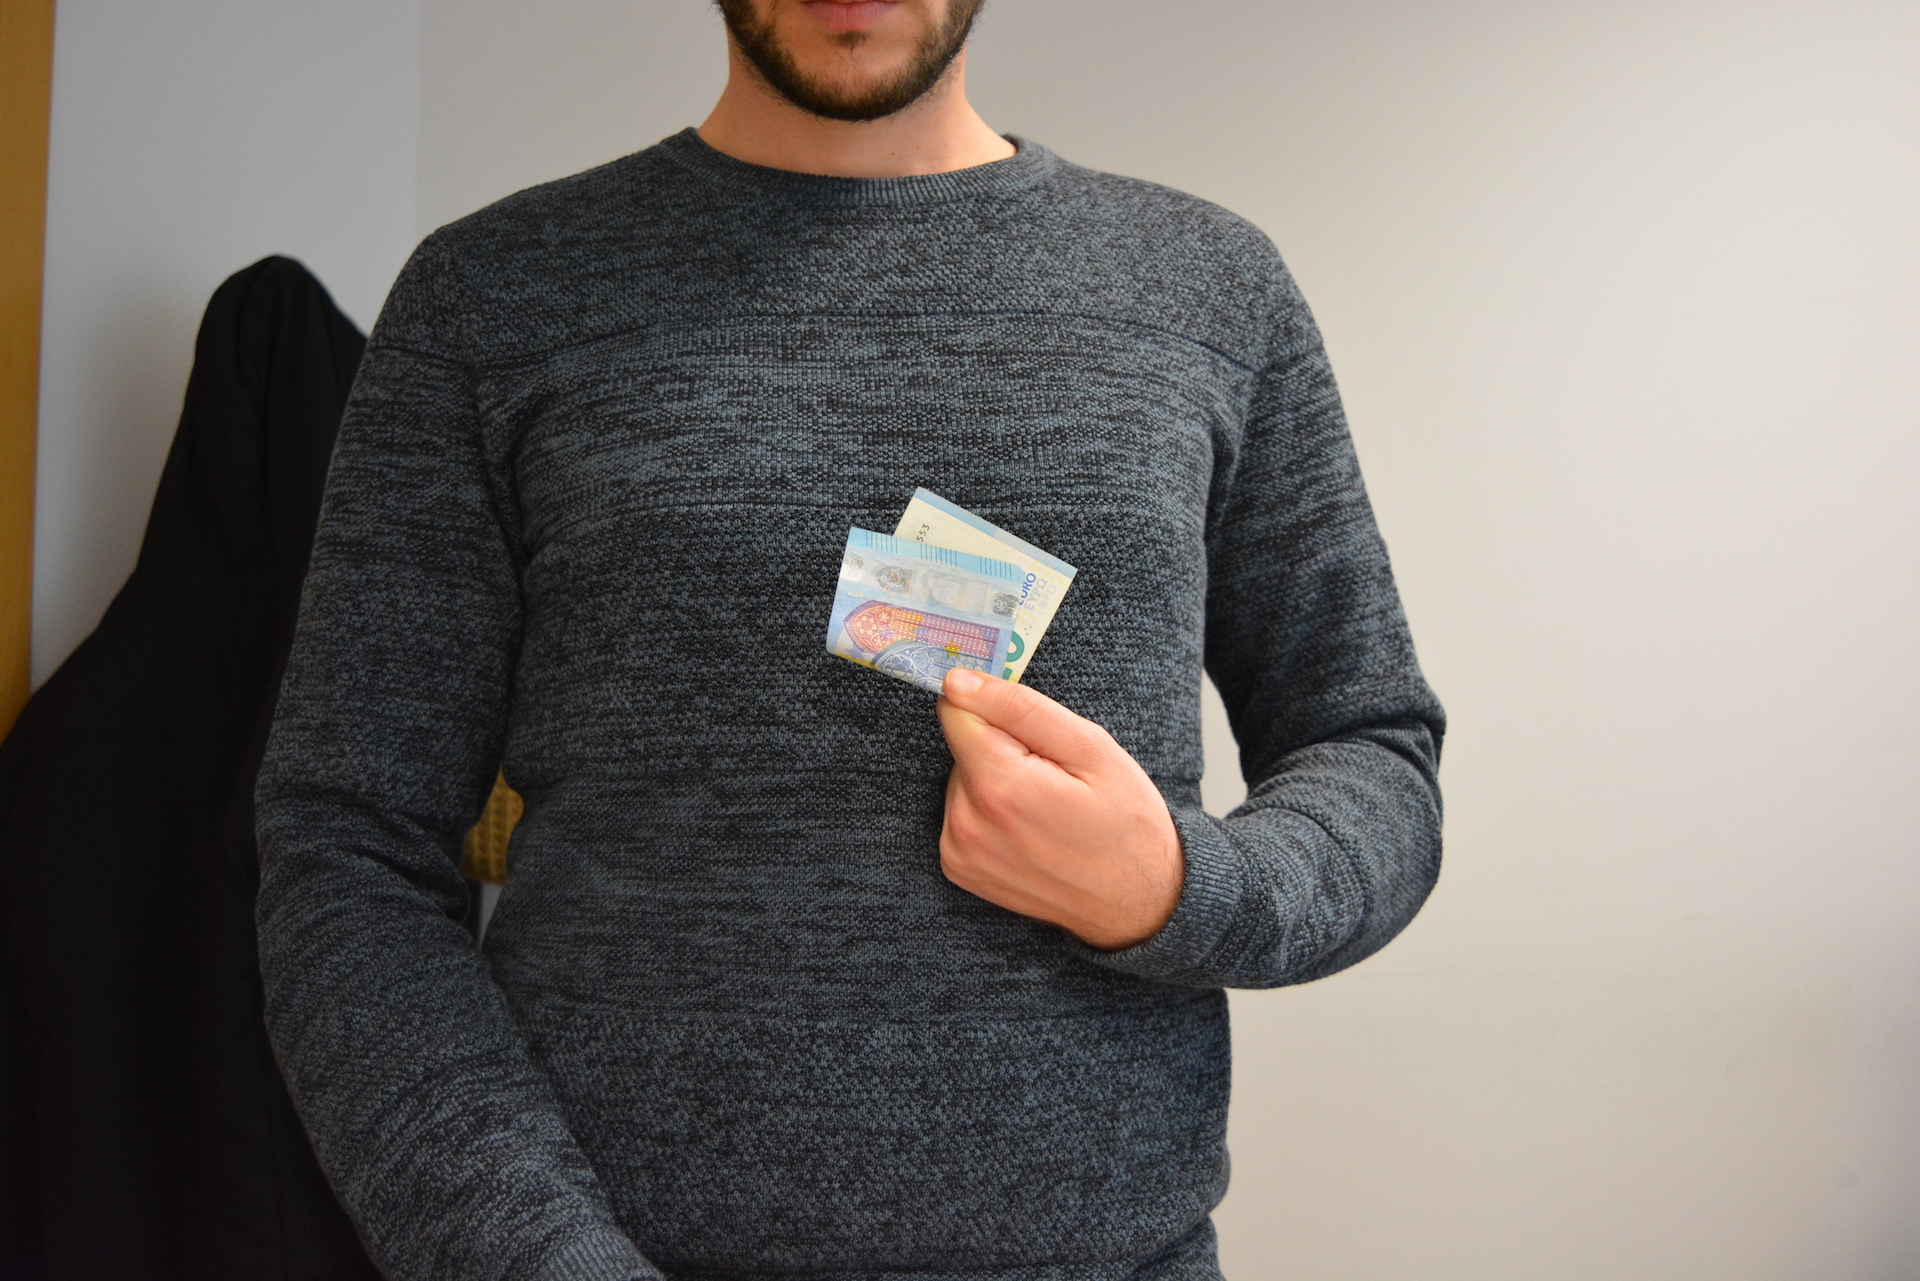billete: (825, 485, 1079, 698)
